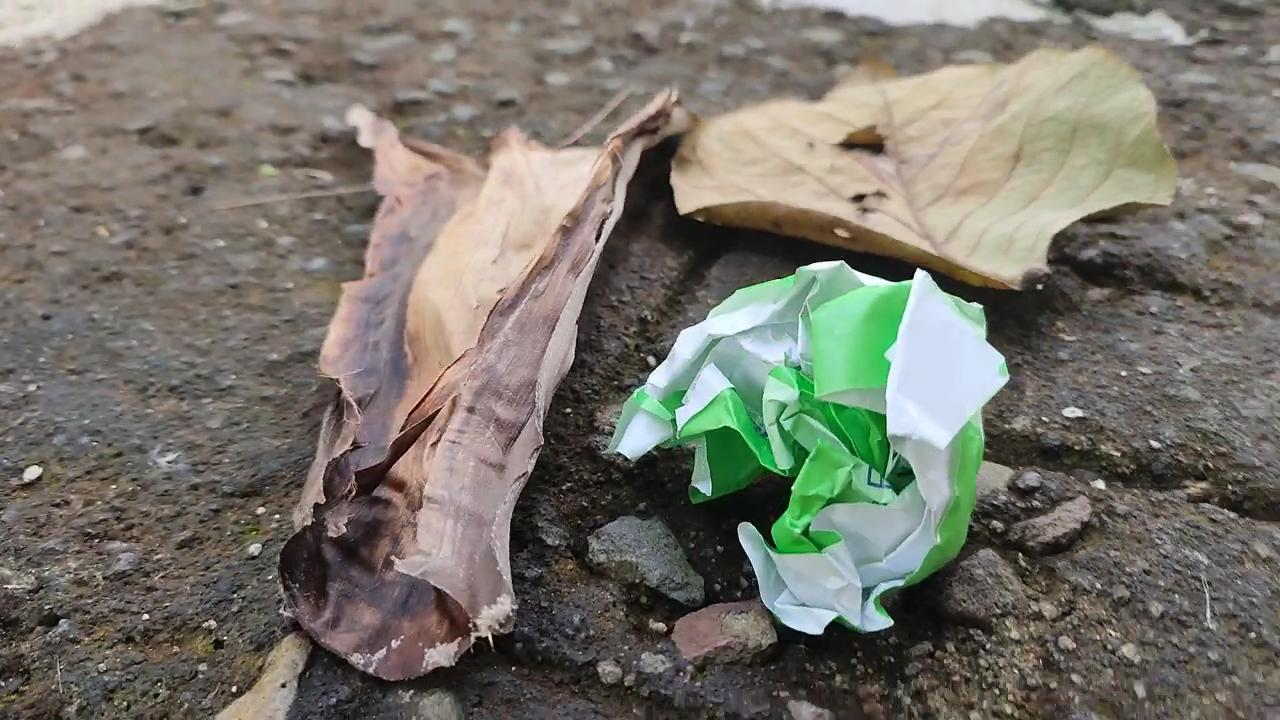Paper: (613, 240, 1018, 672)
